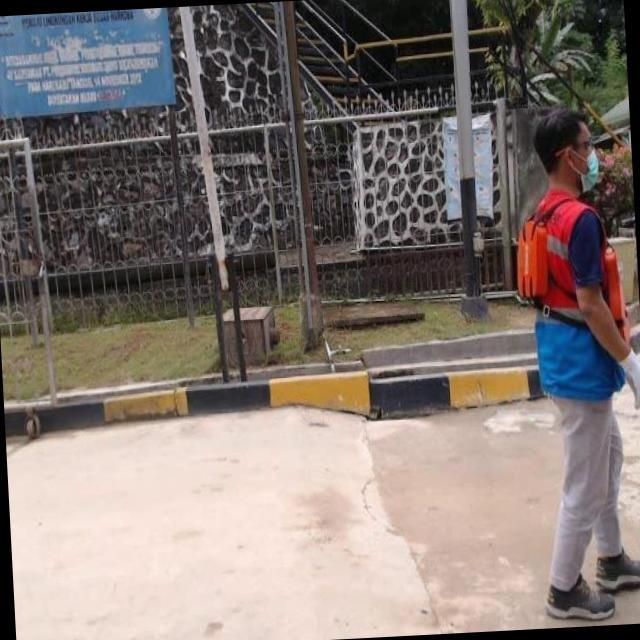Gloves: (606, 340, 640, 413)
Person: (492, 92, 640, 640)
Safety Boot: (543, 564, 617, 626), (591, 548, 640, 593)
Safety Vest: (512, 187, 635, 407)
no-helmet: (530, 102, 601, 148)
